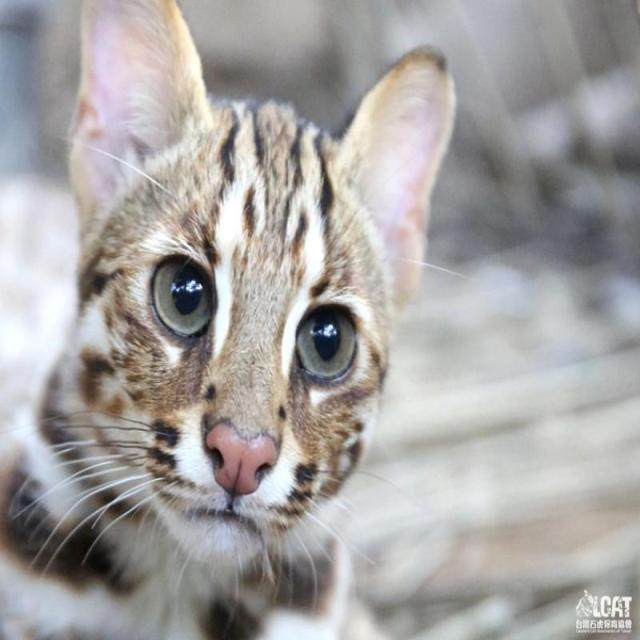leopard: (91, 9, 410, 610)
